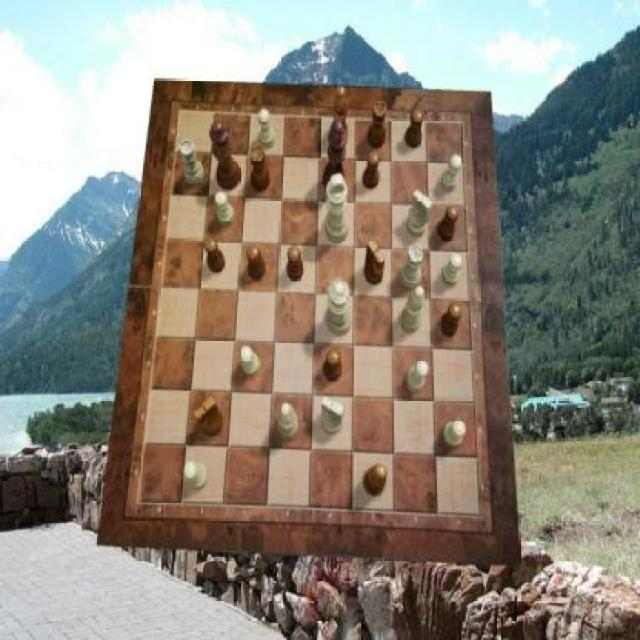bishop: (331, 86, 348, 145), (364, 463, 388, 497)
black-bishop: (323, 117, 348, 195)
black-king: (194, 397, 224, 437), (366, 240, 386, 286)
black-knight: (440, 303, 462, 338), (438, 206, 459, 242), (247, 244, 266, 280), (206, 239, 226, 273), (405, 109, 422, 149), (363, 151, 380, 189), (323, 351, 342, 383), (288, 246, 304, 281)
black-pawn: (209, 120, 242, 192)
black-queen: (250, 146, 272, 192), (368, 102, 387, 149)
black-rook: (400, 286, 425, 332), (278, 402, 300, 439)
white-bishop: (324, 173, 348, 244)
white-king: (406, 191, 432, 238), (322, 397, 344, 435)
white-knight: (440, 156, 462, 192), (406, 358, 429, 392), (442, 254, 462, 288), (216, 191, 236, 225), (259, 109, 276, 149), (185, 462, 209, 489), (443, 420, 466, 448), (240, 346, 260, 377)
white-pawn: (326, 277, 352, 335)
white-queen: (180, 140, 205, 186), (400, 244, 423, 288)
